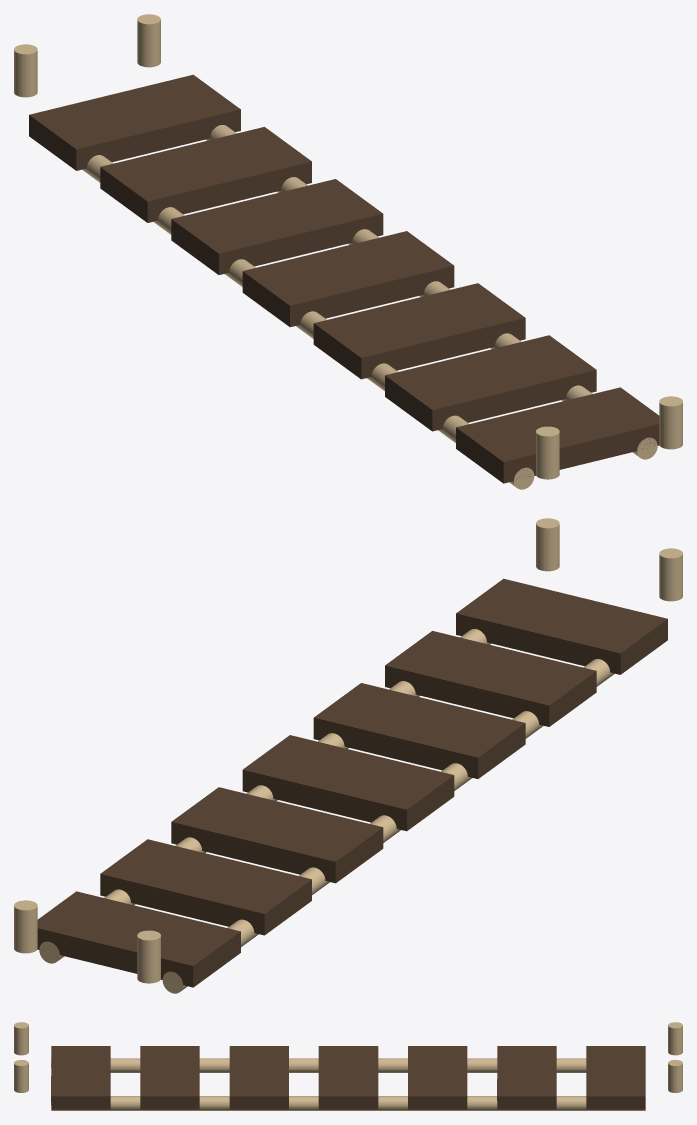
File: newBridge.fbx
The picture shows the model from 3 angles, top to bottom: view 1: azimuth 30°, elevation 25°; view 2: azimuth 150°, elevation 25°; view 3: azimuth 270°, elevation 25°; orthographic projection. The views are drawn at different scales.
Visible parts, largest first — view 1: Cube, Cube_002, Cube_001, Cube_005, Cube_004, Cube_003, Cube_006, Cylinder_004, Cylinder_005, Cylinder_003, Cylinder_001, Cylinder_002 (+1 smaller); view 2: Cube, Cube_002, Cube_001, Cube_003, Cube_006, Cube_005, Cube_004, Cylinder_004, Cylinder_005, Cylinder_002, Cylinder, Cylinder_003 (+1 smaller); view 3: Cube, Cube_006, Cube_005, Cube_004, Cube_003, Cube_002, Cube_001, Cylinder_005, Cylinder_004, Cylinder_003, Cylinder, Cylinder_002 (+1 smaller).
Boxes of the visible parts, x1,y1,x2,y2 form: Cube: (242,231,454,327); Cube_002: (171,179,383,274); Cube_001: (313,283,525,379); Cube_005: (385,335,596,431); Cube_004: (29,74,240,170); Cube_003: (100,127,311,222); Cube_006: (456,387,659,483); Cylinder_004: (82,155,534,489); Cylinder_005: (205,125,657,459); Cylinder_003: (14,44,37,97); Cylinder_001: (659,396,682,449); Cylinder_002: (137,14,160,67); Cube: (242,735,454,831); Cube_002: (171,787,383,883); Cube_001: (313,683,525,778); Cube_003: (100,839,311,935); Cube_006: (456,578,667,674); Cube_005: (385,631,596,726); Cube_004: (37,891,240,987); Cylinder_004: (162,659,614,993); Cylinder_005: (39,629,491,963); Cylinder_002: (14,900,37,953); Cylinder: (659,548,682,601); Cylinder_003: (137,930,160,983); Cube: (318,1046,378,1109); Cube_006: (51,1046,110,1109); Cube_005: (140,1046,199,1109); Cube_004: (586,1046,645,1109); Cube_003: (497,1046,556,1109); Cube_002: (408,1046,467,1109); Cube_001: (229,1046,288,1109); Cylinder_005: (51,1096,645,1110); Cylinder_004: (51,1058,586,1072); Cylinder_003: (668,1022,682,1055); Cylinder: (14,1022,28,1055); Cylinder_002: (668,1060,682,1092).
Bounding box in the file's own units: 2 × 0.875 × 11.25.
